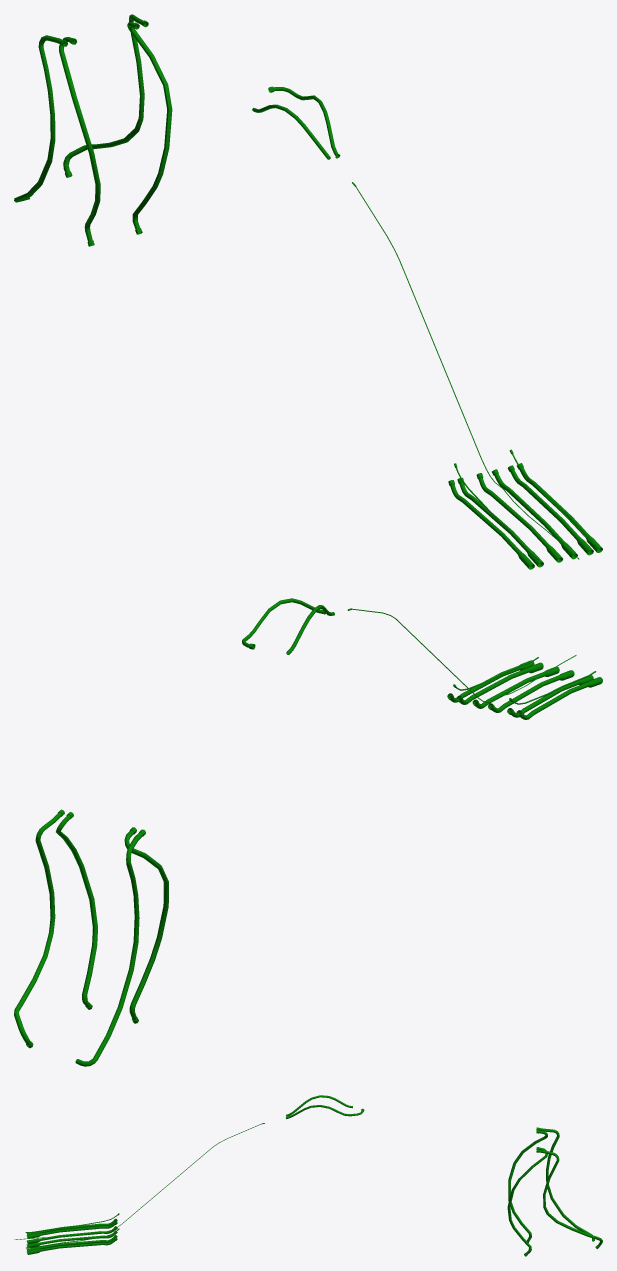
The model's file is ExcavatorMachine_Pipes_01a_snaps005.fbx.
3 views of the same model, one above another, from view 1: azimuth 30°, elevation 25°; view 2: azimuth 150°, elevation 25°; view 3: azimuth 270°, elevation 25° (orthographic). The views are drawn at different scales.
Visible parts, largest first — view 1: ExcavatorMachine_Pipes_01a_snaps005; view 2: ExcavatorMachine_Pipes_01a_snaps005; view 3: ExcavatorMachine_Pipes_01a_snaps005.
Part boxes in pixels (bbox=[...]): ExcavatorMachine_Pipes_01a_snaps005: bbox=[14, 14, 602, 569]; ExcavatorMachine_Pipes_01a_snaps005: bbox=[14, 598, 602, 1066]; ExcavatorMachine_Pipes_01a_snaps005: bbox=[14, 1095, 602, 1256].
Bounding box in the file's own units: 89.63 × 247 × 869.
